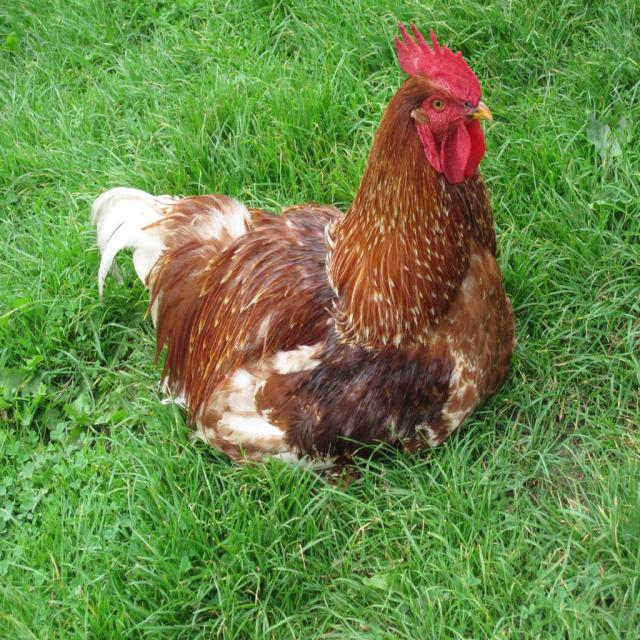Chicken: (90, 21, 518, 492)
